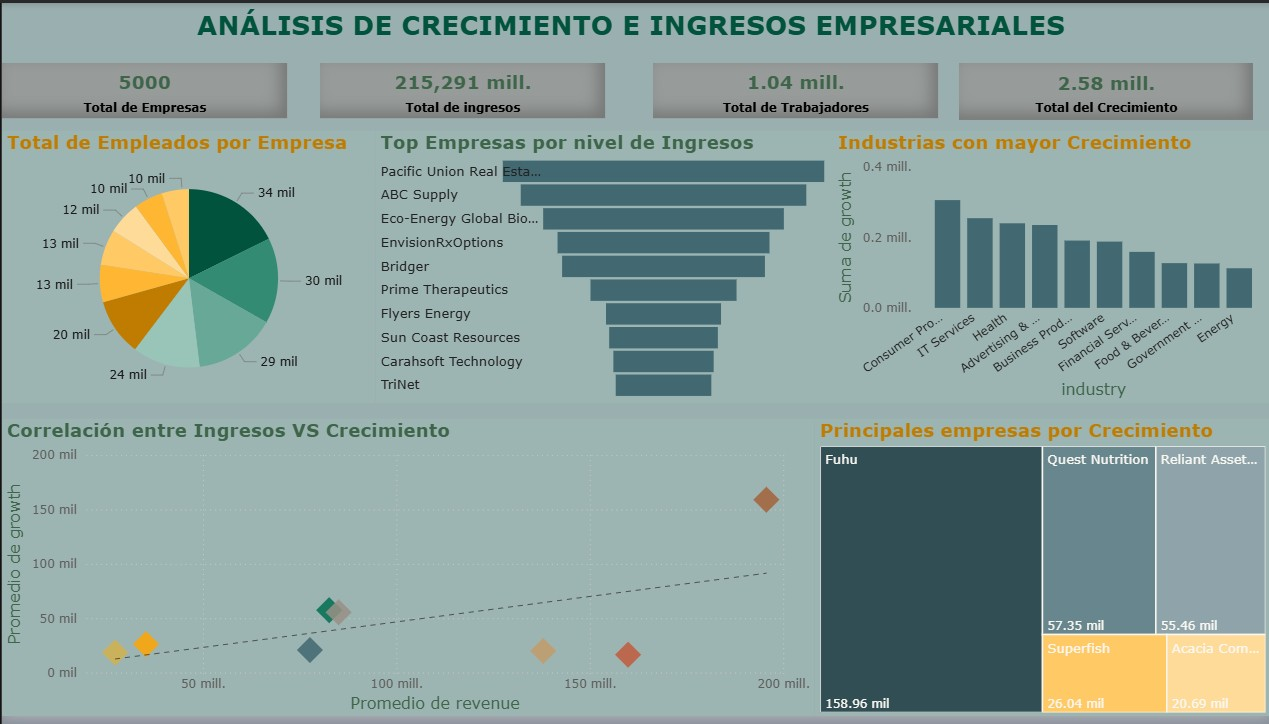

Layout of this report page (visuals, bound fields, positions):
{"tool":"powerbi","page":{"name":"Análisis","canvas":[1280,720],"ordinal":0},"visuals":[{"type":"clusteredColumnChart","title":"Industrias con mayor Crecimiento","fields":{"Category":["Data Set- Inc5000 Company List_.industry"],"Y":["Sum(Data Set- Inc5000 Company List_.growth)"]},"box":[839.4,128.9,441.2,275],"z":0},{"type":"scatterChart","title":"Correlación entre Ingresos VS Crecimiento","fields":{"X":["Avg(Data Set- Inc5000 Company List_.revenue)"],"Y":["Avg(Data Set- Inc5000 Company List_.growth)"],"Series":["Data Set- Inc5000 Company List_.company"]},"box":[0,418.8,820.3,301.4],"z":1000},{"type":"funnel","title":"Top Empresas por nivel de Ingresos","fields":{"Category":["Data Set- Inc5000 Company List_.company"],"Y":["Sum(Data Set- Inc5000 Company List_.revenue)"]},"box":[376.7,128.9,462.7,275],"z":2000},{"type":"treemap","title":"Principales empresas por Crecimiento","fields":{"Group":["Data Set- Inc5000 Company List_.company"],"Values":["Sum(Data Set- Inc5000 Company List_.growth)"]},"box":[820.3,418.8,459.4,301.4],"z":3000},{"type":"card","fields":{"Values":["CountNonNull(Data Set- Inc5000 Company List_.company)"]},"box":[0,60.6,287.7,56],"z":4000},{"type":"card","fields":{"Values":["Sum(Data Set- Inc5000 Company List_.revenue)"]},"box":[321,60.6,287.7,56],"z":5000},{"type":"card","fields":{"Values":["Sum(Data Set- Inc5000 Company List_.workers)"]},"box":[657.2,60.6,287.7,56],"z":6000},{"type":"card","fields":{"Values":["Sum(Data Set- Inc5000 Company List_.growth)"]},"box":[966.1,60.6,296.8,57.5],"z":7000},{"type":"textbox","box":[100,0,1070,60],"z":8000},{"type":"pieChart","title":"Total de Empleados por Empresa","fields":{"Category":["Data Set- Inc5000 Company List_.company"],"Y":["Sum(Data Set- Inc5000 Company List_.workers)"]},"box":[0,128.9,376.7,275],"z":9000}]}

Visuals, with their boxes in screenshot pixels (x1, y1, x2, y2), scaled from the page's 1280x720 canvas onto the 1269x724 screenshot:
"Industrias con mayor Crecimiento" clusteredColumnChart: 832 130 1268 406
"Correlación entre Ingresos VS Crecimiento" scatterChart: 0 421 813 723
"Top Empresas por nivel de Ingresos" funnel: 373 130 832 406
"Principales empresas por Crecimiento" treemap: 813 421 1268 723
card - CountNonNull(Data Set- Inc5000 Company List_.company): 0 61 285 117
card - Sum(Data Set- Inc5000 Company List_.revenue): 318 61 603 117
card - Sum(Data Set- Inc5000 Company List_.workers): 652 61 937 117
card - Sum(Data Set- Inc5000 Company List_.growth): 958 61 1252 119
textbox: 99 0 1160 60
"Total de Empleados por Empresa" pieChart: 0 130 373 406
